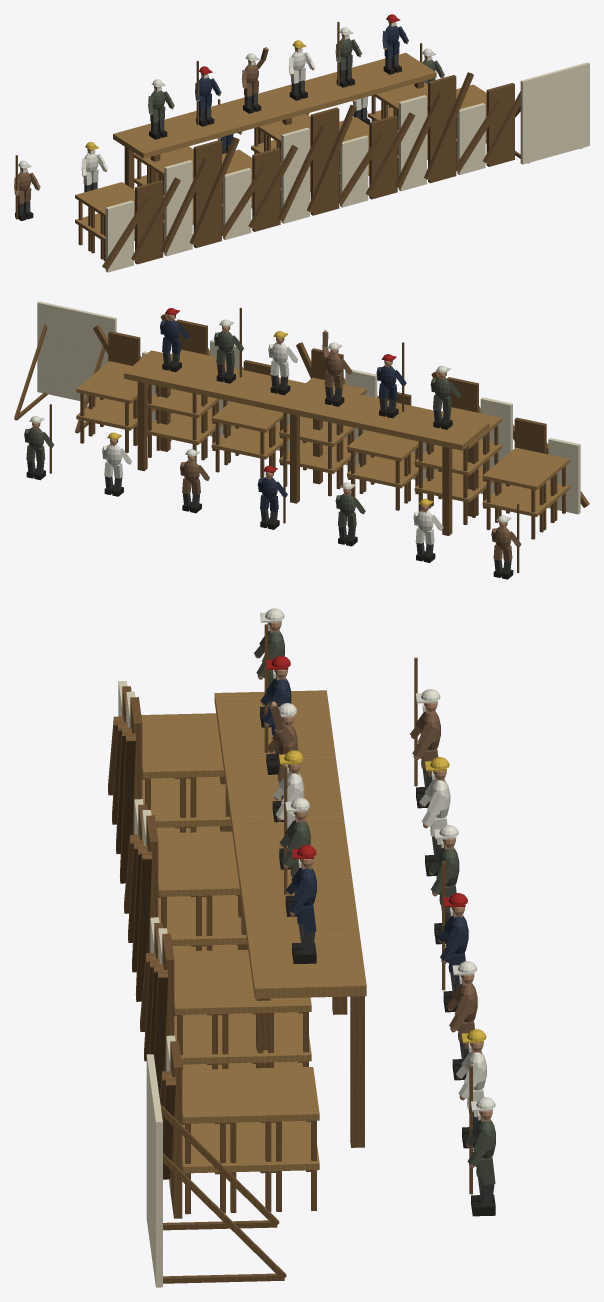
Rendered from KyotoGate1969.glb.
3 views of the same model, one above another, from view 1: azimuth 30°, elevation 25°; view 2: azimuth 150°, elevation 25°; view 3: azimuth 270°, elevation 25° (orthographic). The views are drawn at different scales.
Parts seen in each view (by area): view 1: wood@gate, paper@gate, desk@gate, white@gate, trousers@gate, jacket@gate, navy@gate, brown@gate, boots@gate, skin@gate; view 2: desk@gate, wood@gate, paper@gate, jacket@gate, white@gate, trousers@gate, brown@gate, navy@gate, boots@gate, skin@gate; view 3: desk@gate, wood@gate, white@gate, paper@gate, jacket@gate, navy@gate, brown@gate, boots@gate, skin@gate, trousers@gate, yellow@gate, red@gate.
Boxes of the visible parts, left/top/right/bottom form: wood@gate: left=15, top=21, right=582, bottom=269; paper@gate: left=105, top=62, right=589, bottom=272; desk@gate: left=75, top=52, right=486, bottom=242; white@gate: left=18, top=22, right=435, bottom=185; trousers@gate: left=18, top=54, right=398, bottom=214; jacket@gate: left=148, top=38, right=444, bottom=122; navy@gate: left=195, top=25, right=408, bottom=147; brown@gate: left=14, top=48, right=308, bottom=203; boots@gate: left=15, top=22, right=427, bottom=220; skin@gate: left=16, top=21, right=444, bottom=196; desk@gate: left=76, top=349, right=569, bottom=516; wood@gate: left=14, top=307, right=589, bottom=573; paper@gate: left=37, top=301, right=580, bottom=514; jacket@gate: left=24, top=331, right=460, bottom=528; white@gate: left=29, top=316, right=511, bottom=544; trousers@gate: left=27, top=352, right=511, bottom=573; brown@gate: left=180, top=332, right=521, bottom=561; navy@gate: left=160, top=319, right=406, bottom=511; boots@gate: left=26, top=315, right=513, bottom=579; skin@gate: left=27, top=314, right=520, bottom=546; desk@gate: left=141, top=690, right=366, bottom=1173; wood@gate: left=108, top=624, right=472, bottom=1283; white@gate: left=260, top=608, right=495, bottom=1120; paper@gate: left=118, top=681, right=175, bottom=1287; jacket@gate: left=254, top=630, right=495, bottom=1184; navy@gate: left=260, top=677, right=468, bottom=980; brown@gate: left=267, top=703, right=477, bottom=1048; boots@gate: left=260, top=706, right=495, bottom=1216; skin@gate: left=255, top=622, right=492, bottom=1168; trousers@gate: left=268, top=700, right=494, bottom=1206; yellow@gate: left=279, top=750, right=486, bottom=1043; red@gate: left=266, top=655, right=467, bottom=907.
Size of the model in its own units: 16.81 by 4.87 by 5.54.
12 materials, 12 textured.
